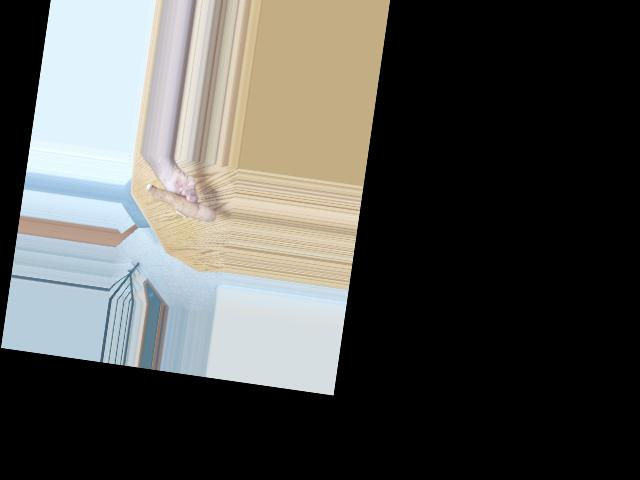sweet_potato: (142, 176, 217, 226)
